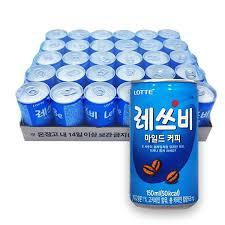letsbe: (131, 77, 200, 208), (17, 81, 50, 127), (54, 83, 85, 129), (85, 85, 116, 128)
